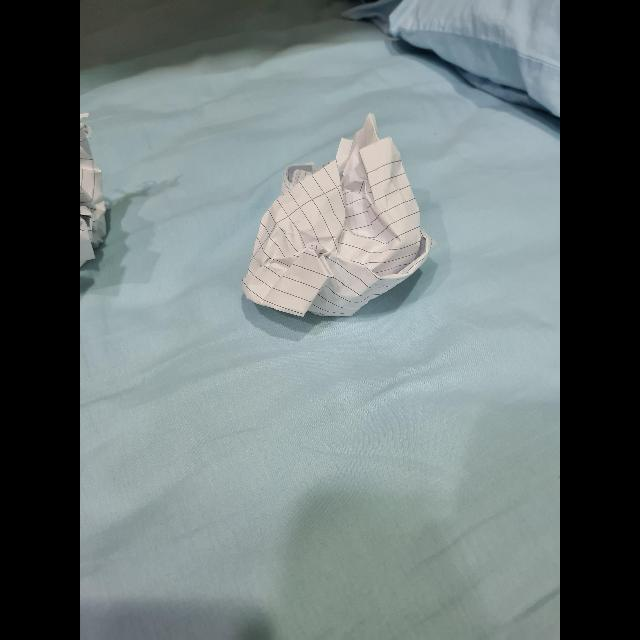scrap_paper: (242, 115, 430, 321)
